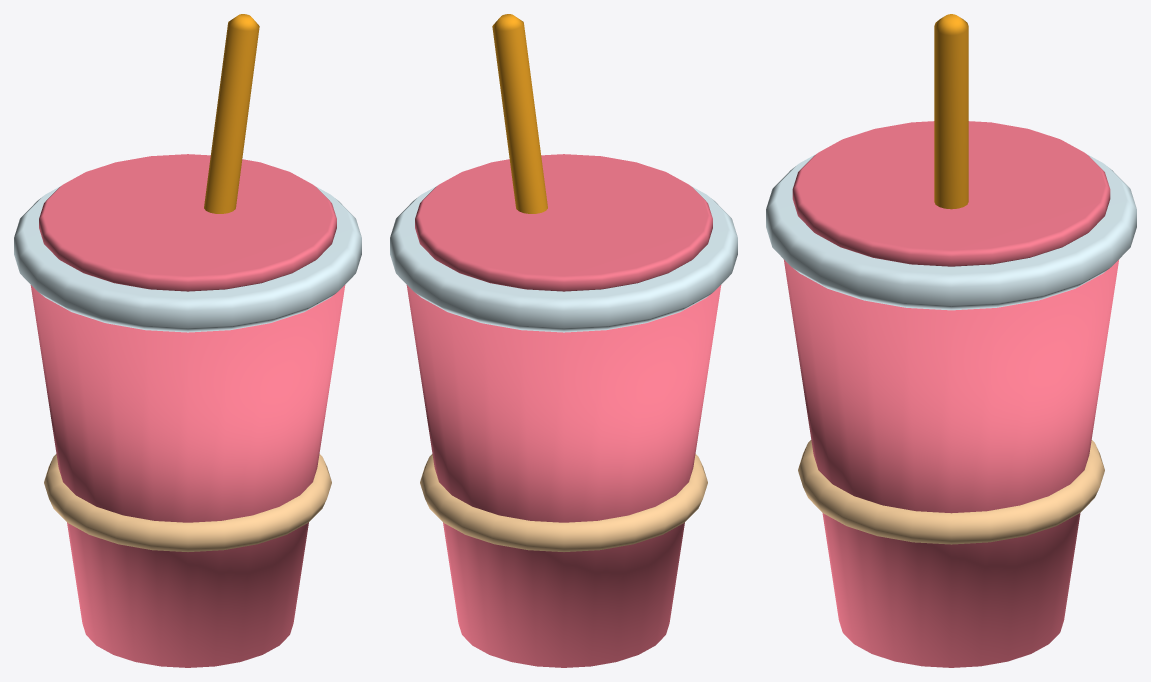
The model's file is teacup.fbx.
3 renders of one model, left to right at view 1: azimuth 30°, elevation 25°; view 2: azimuth 150°, elevation 25°; view 3: azimuth 270°, elevation 25°, orthographic. The views are drawn at different scales.
Visible parts, largest first — view 1: teacup; view 2: teacup; view 3: teacup.
Part boxes in pixels (x1=…): teacup: x1=14, y1=14, x2=361, y2=667; teacup: x1=390, y1=14, x2=737, y2=667; teacup: x1=766, y1=14, x2=1136, y2=667.
Bounding box in the file's own units: 53.1 × 100 × 53.1.
1 material, 1 textured.
